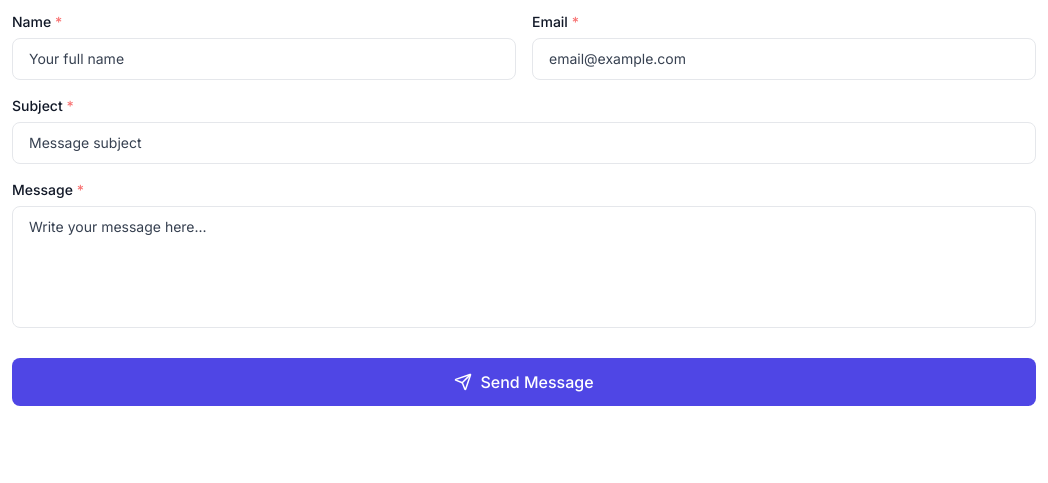
Test: ContactForm — Unit Tests › Validation › shows error when email format is invalid
In the field labelled "Email *": (784, 59) x1=532 y1=38 x2=1036 y2=80, type "invalid-email"
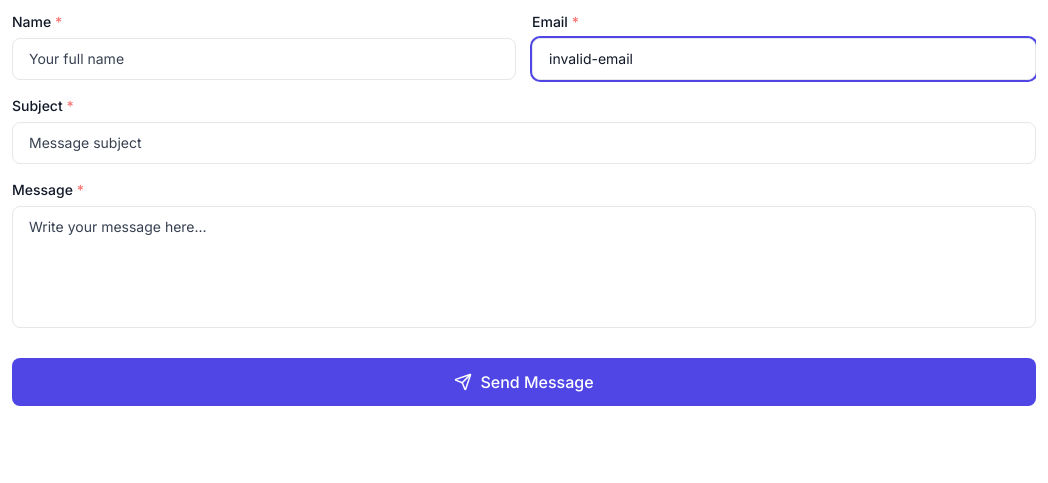
Click the button with aria-label "kirim pesan": (524, 382) x1=12 y1=358 x2=1036 y2=406
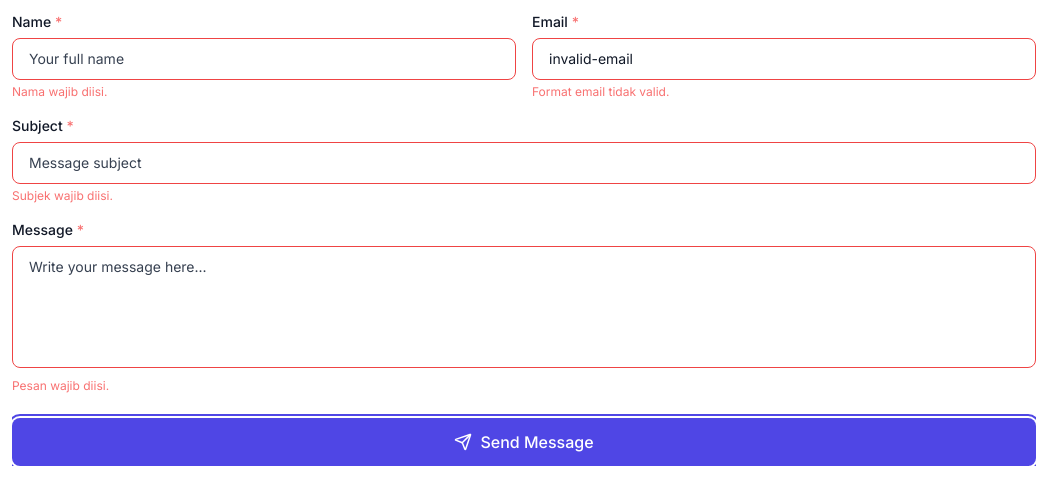
Result: the text "Format email tidak valid." is shown at x1=532 y1=84 x2=669 y2=99
